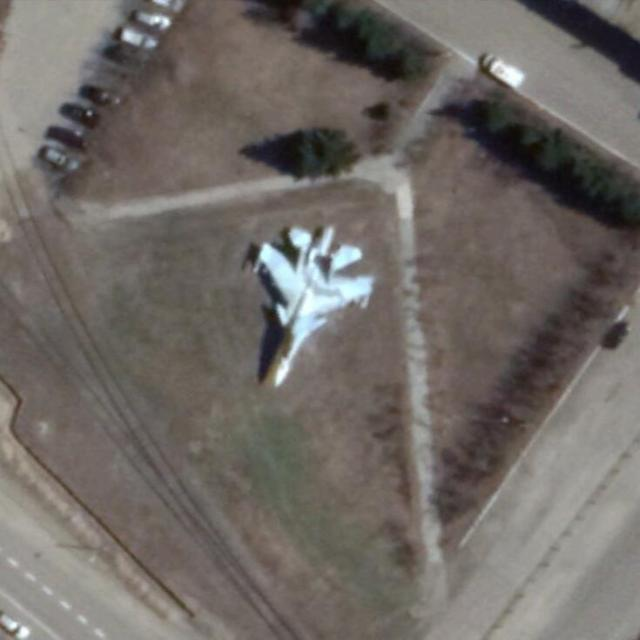fighter jet: (234, 214, 368, 384)
